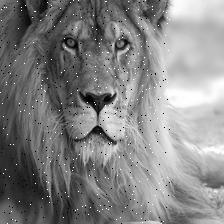Lion: (0, 0, 170, 224)
